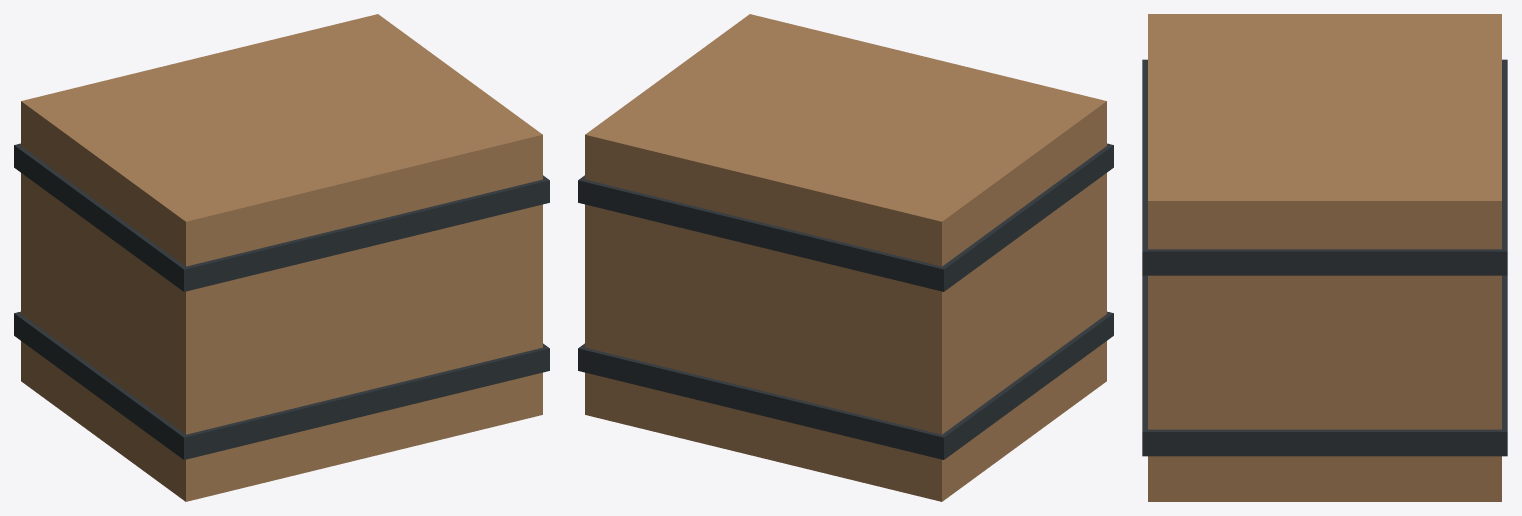
Rendered from skrzynka.glb.
The picture shows the model from 3 angles, left to right: view 1: azimuth 30°, elevation 25°; view 2: azimuth 150°, elevation 25°; view 3: azimuth 270°, elevation 25°; orthographic projection. The views are drawn at different scales.
Visible parts, largest first — view 1: Skrzynka; view 2: Skrzynka; view 3: Skrzynka.
Boxes of the visible parts, x1=… form: Skrzynka: x1=14, y1=14, x2=549, y2=501; Skrzynka: x1=578, y1=14, x2=1113, y2=501; Skrzynka: x1=1142, y1=14, x2=1507, y2=501.
Size of the model in its own units: 0.41 by 0.3 by 0.33.
